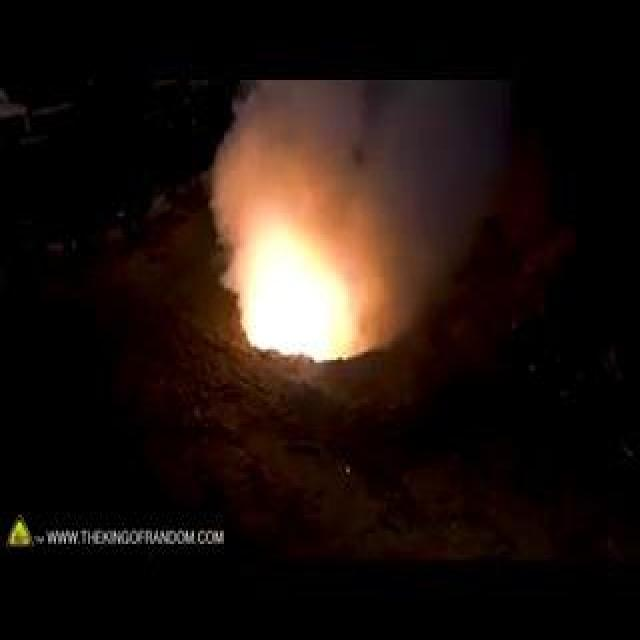Fire: (128, 126, 287, 342)
